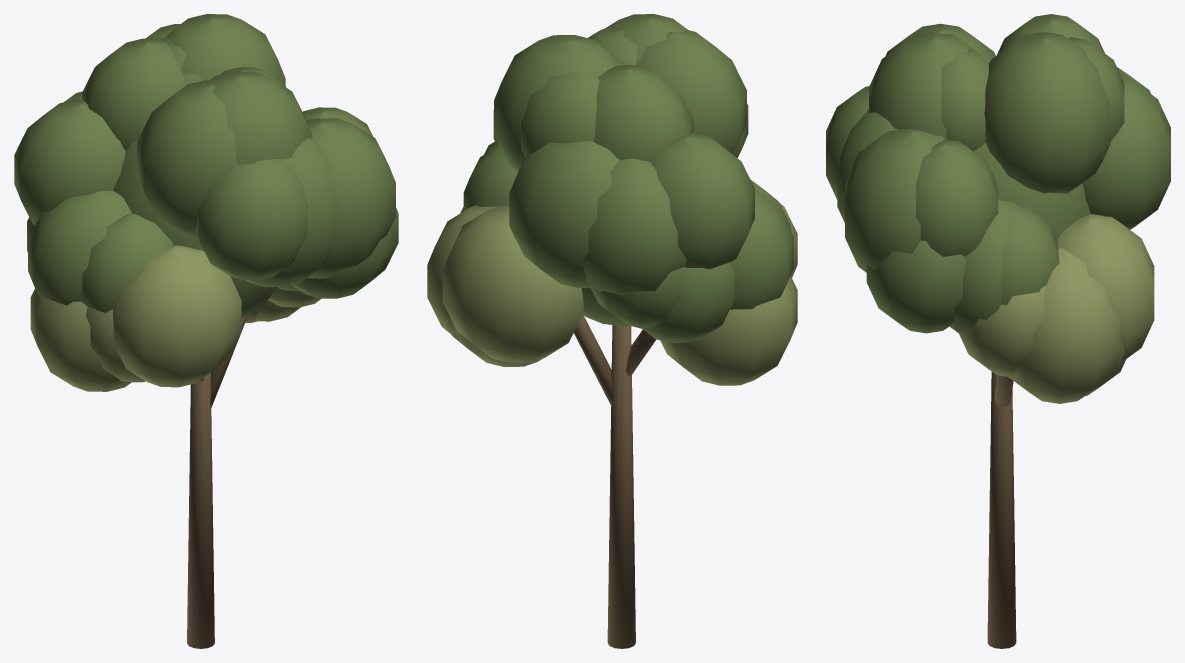
File: tree.glb
The picture shows the model from 3 angles, left to right: view 1: azimuth 30°, elevation 25°; view 2: azimuth 150°, elevation 25°; view 3: azimuth 270°, elevation 25°; orthographic projection. The views are drawn at different scales.
Visible parts, largest first — view 1: tree-canopy; view 2: tree-canopy; view 3: tree-canopy.
Part boxes in pixels (box(x1,y1,x2,y2)): tree-canopy: box(14, 14, 398, 648); tree-canopy: box(427, 14, 797, 648); tree-canopy: box(826, 14, 1170, 648).
Size of the model in its own units: 3.05 by 5.46 by 2.75.
